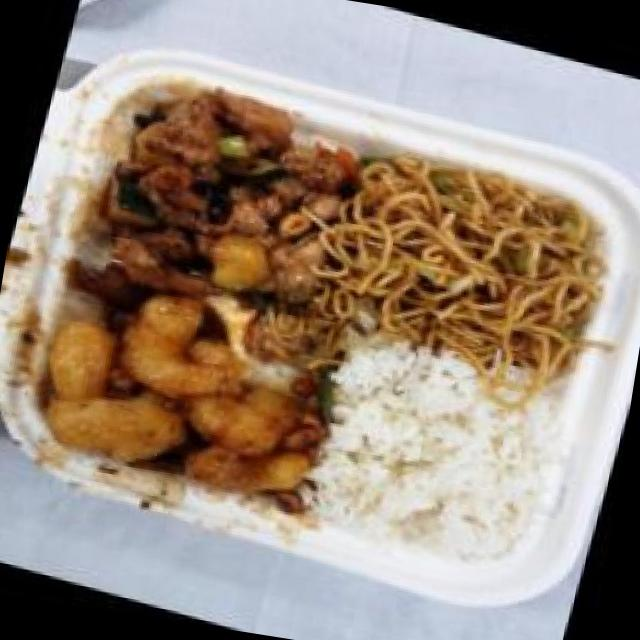Chow Mein: (302, 128, 629, 398)
Honey Walnut Shrimp: (0, 258, 349, 536)
Kung Pao Chicken: (62, 60, 367, 344)
White Steamed Rice: (290, 326, 579, 584)
